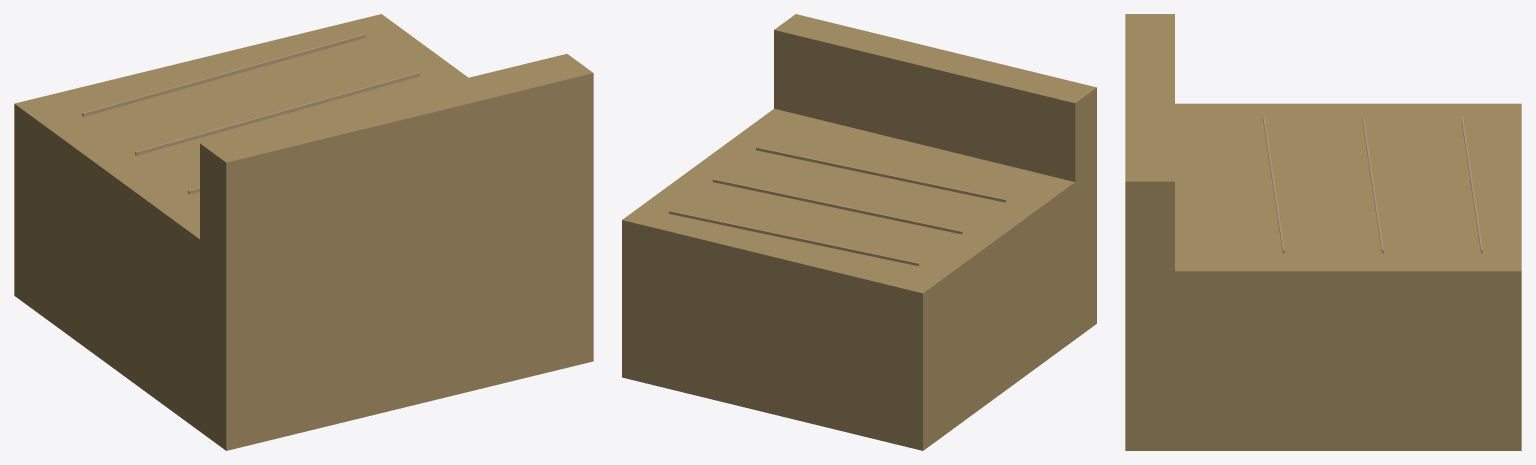
File: terrain-sand-edge.lod0.glb
The picture shows the model from 3 angles, left to right: view 1: azimuth 30°, elevation 25°; view 2: azimuth 150°, elevation 25°; view 3: azimuth 270°, elevation 25°; orthographic projection. The views are drawn at different scales.
Visible parts, largest first — view 1: terrain-sand-edge__body; view 2: terrain-sand-edge__body; view 3: terrain-sand-edge__body.
Boxes of the visible parts, x1,y1,x2,y2 form: terrain-sand-edge__body: [14, 14, 593, 450]; terrain-sand-edge__body: [622, 14, 1096, 450]; terrain-sand-edge__body: [1125, 14, 1521, 450].
Size of the model in its own units: 2 by 1.5 by 2.
